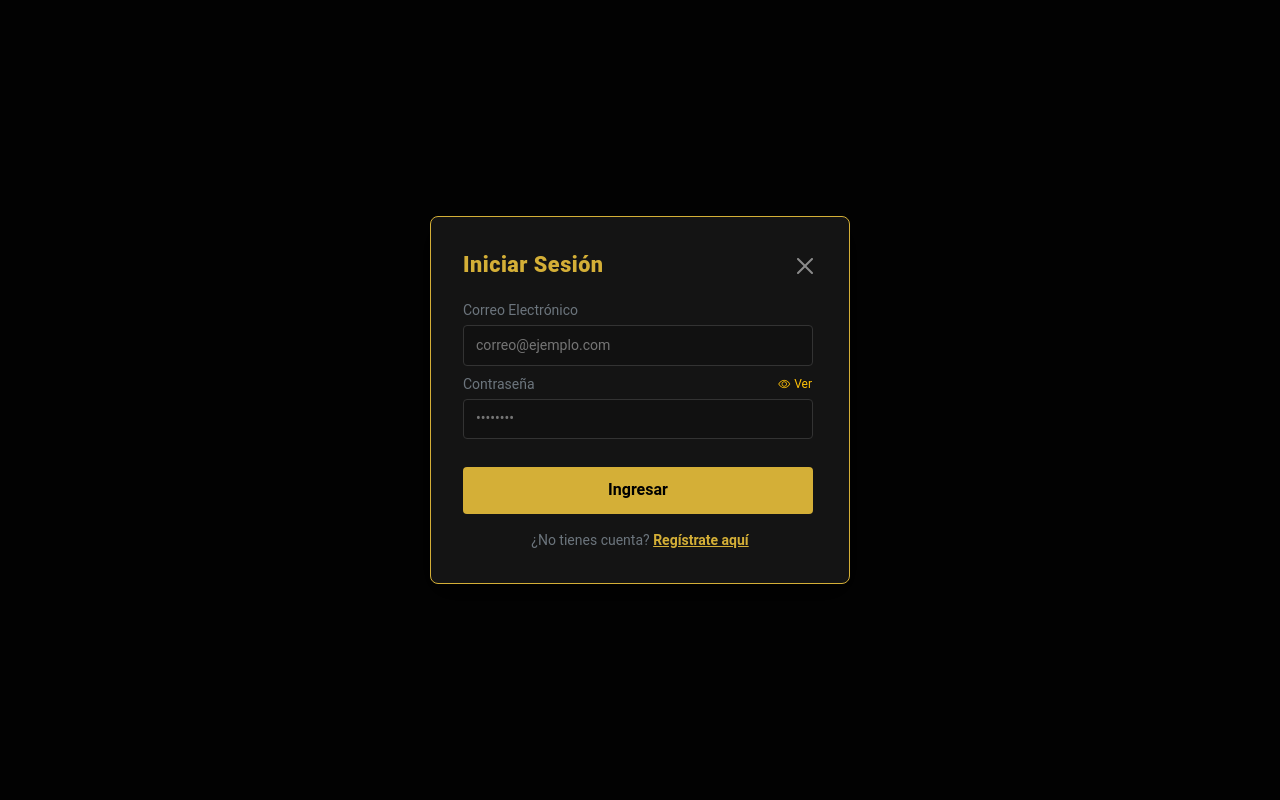
Componente AuthModal › Muestra error cuando las credenciales no existen en el sistema
The width and height of the screenshot is (1280, 800).
In the field with placeholder "correo@ejemplo.com": x=638, y=345 left=463, top=325, right=813, bottom=366, type "nadie@urban.cl"
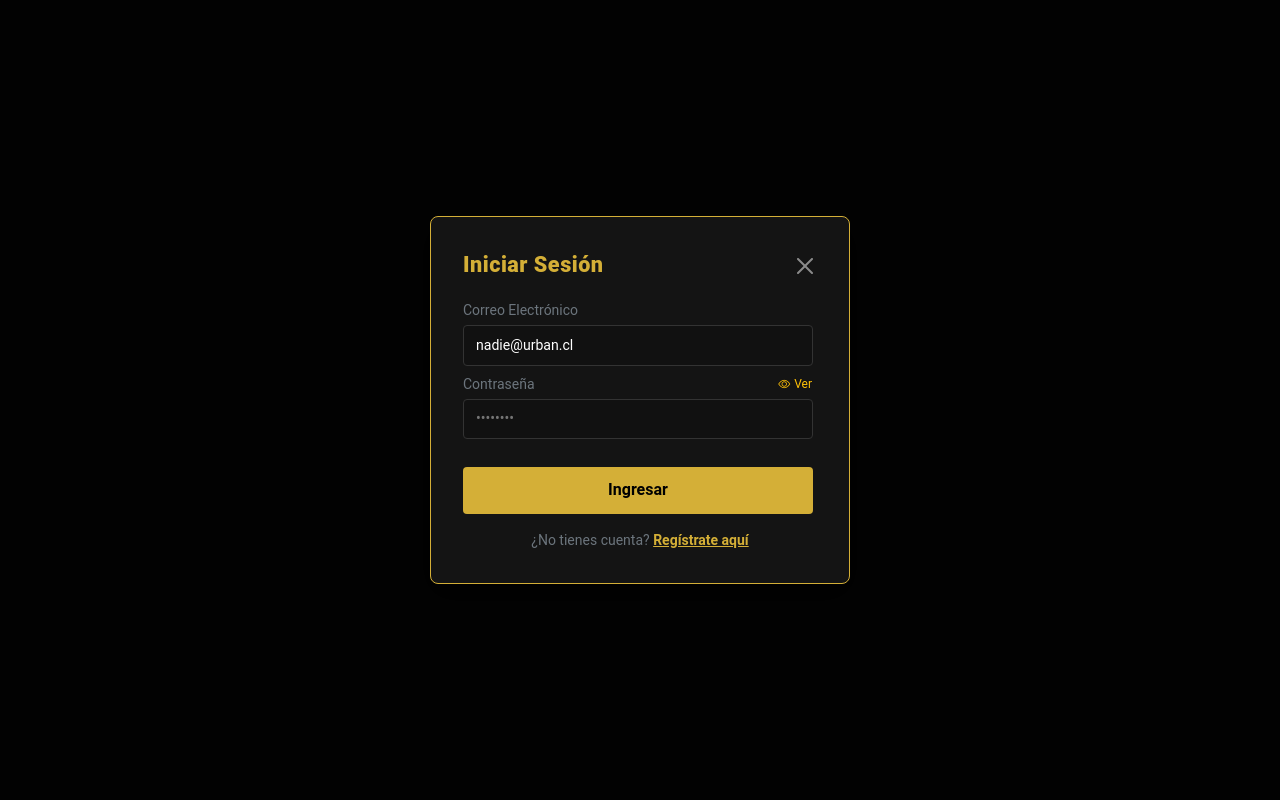
In the password field with placeholder "••••••••": x=638, y=419 left=463, top=398, right=813, bottom=439, type "erronea123"
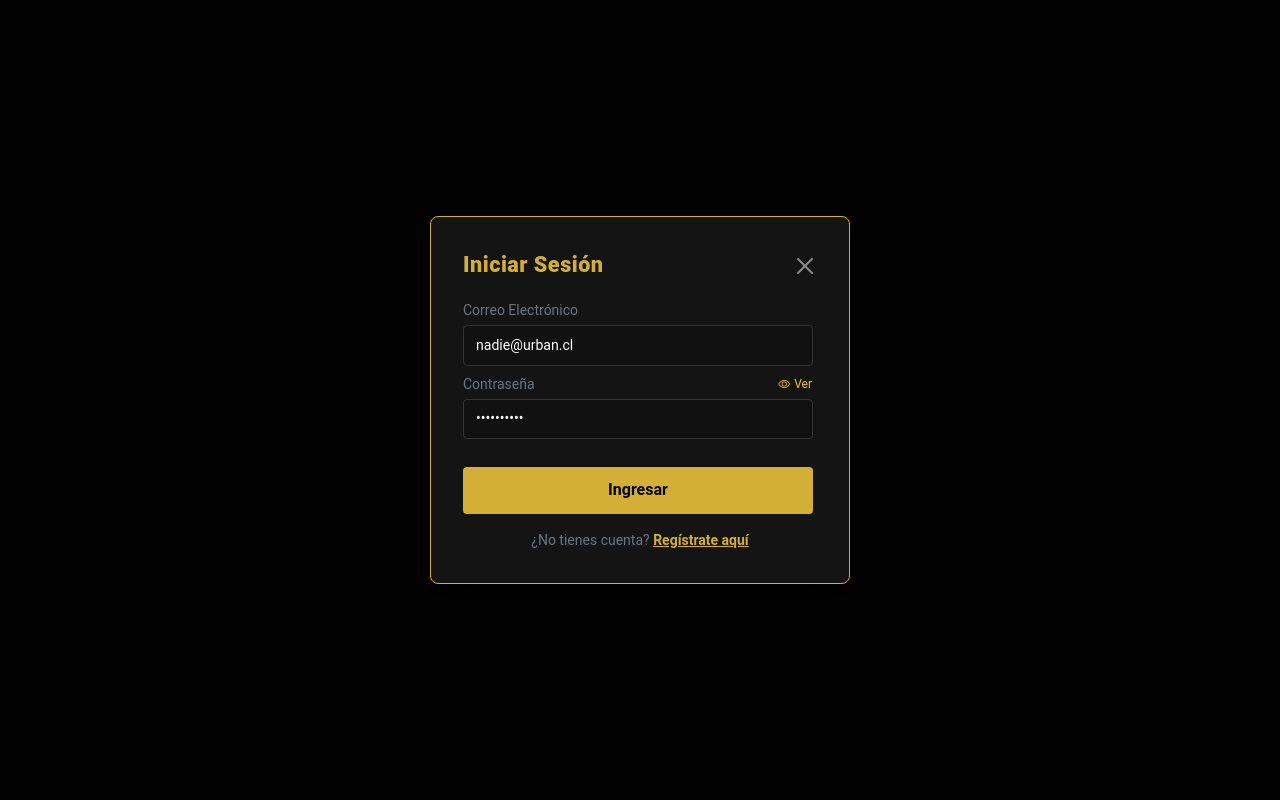
Submit the form, box left=463, top=298, right=817, bottom=530
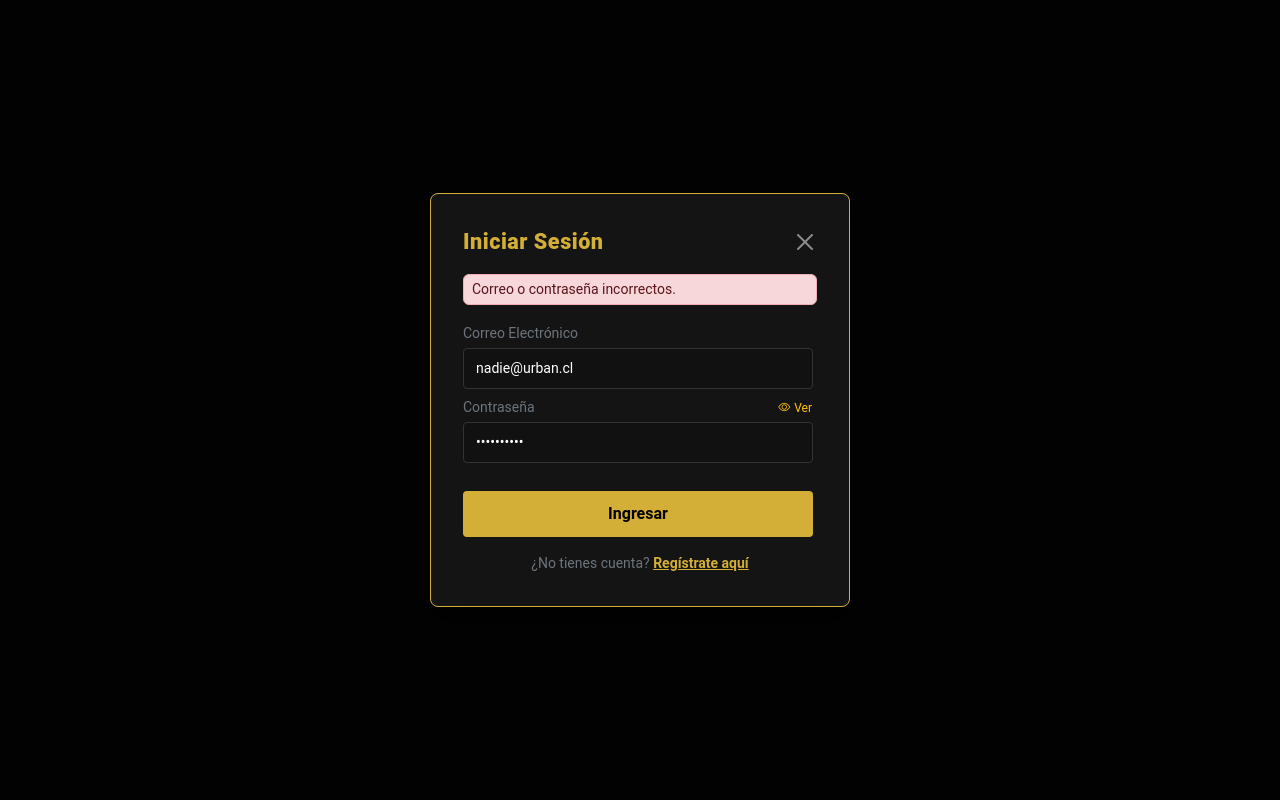
Check: the text "Correo o contraseña incorrectos." is shown, box left=463, top=274, right=817, bottom=305
